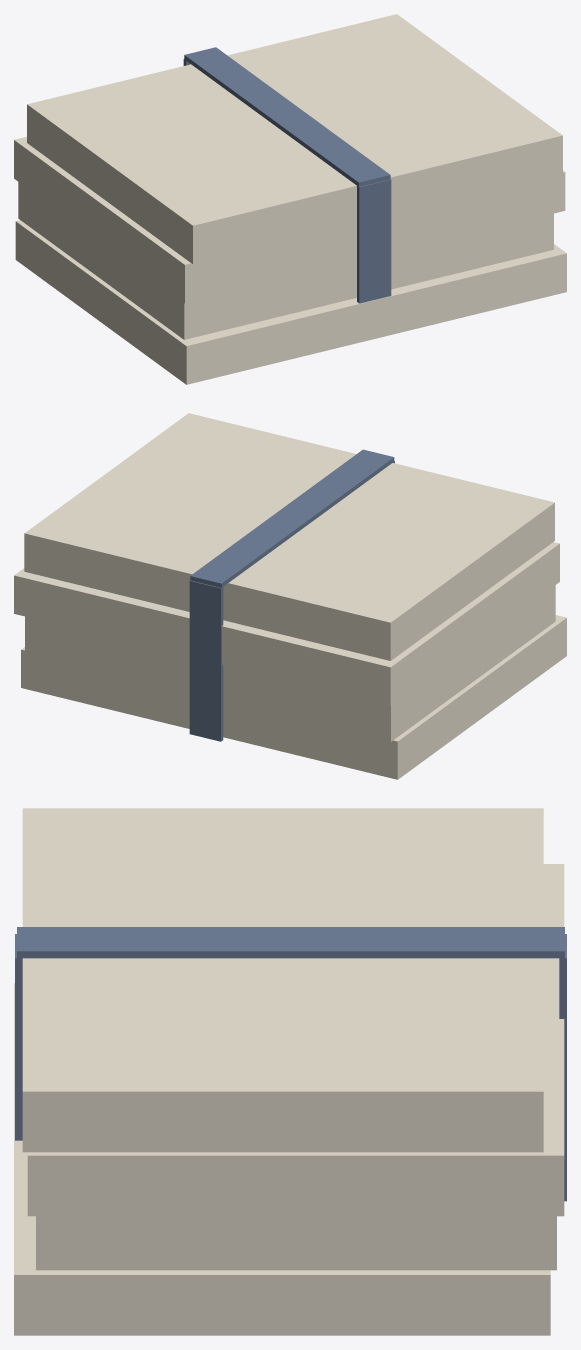
File: Prop_YTM_LinenStack_LOD1.glb
3 views of the same model, one above another, from view 1: azimuth 30°, elevation 25°; view 2: azimuth 150°, elevation 25°; view 3: azimuth 270°, elevation 25° (orthographic). The views are drawn at different scales.
Visible parts, largest first — view 1: Prop_YTM_LinenStack; view 2: Prop_YTM_LinenStack; view 3: Prop_YTM_LinenStack.
Boxes of the visible parts, left/top/right/bottom form: Prop_YTM_LinenStack: left=14, top=14, right=566, bottom=384; Prop_YTM_LinenStack: left=14, top=413, right=566, bottom=779; Prop_YTM_LinenStack: left=14, top=808, right=566, bottom=1335.
Size of the model in its own units: 0.3626 by 0.144 by 0.2886.
